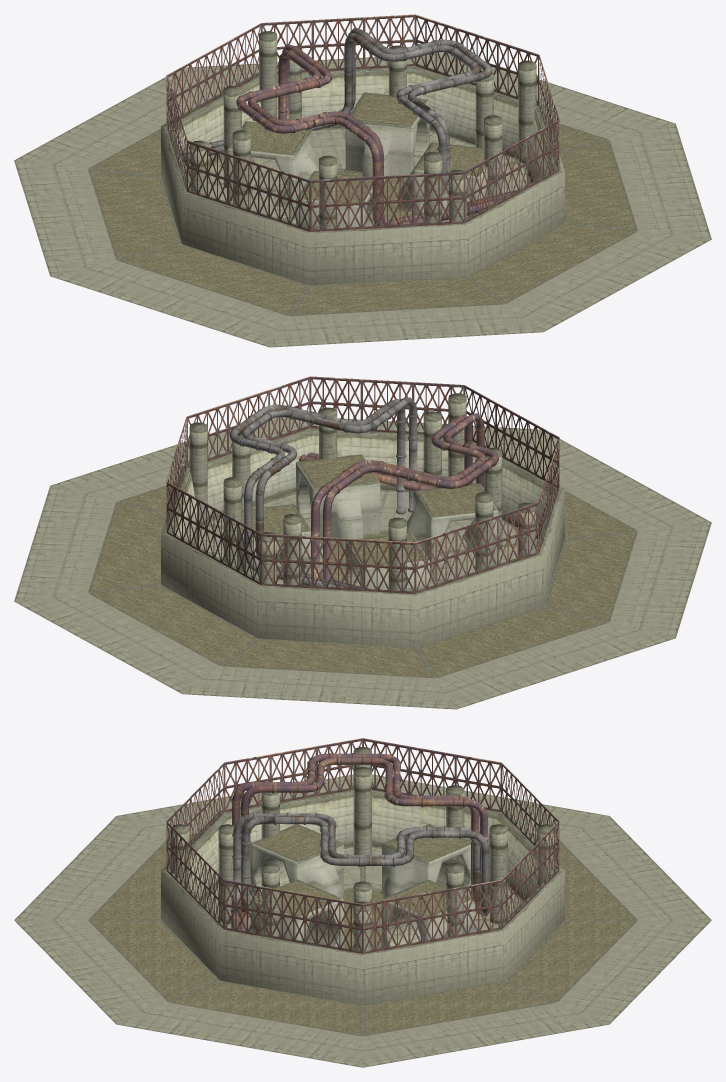
Rendered from BASKET_CROSSHAIR.fbx.
3 renders of one model, top to bottom at view 1: azimuth 30°, elevation 25°; view 2: azimuth 150°, elevation 25°; view 3: azimuth 270°, elevation 25°, orthographic. The views are drawn at different scales.
Parts seen in each view (by area): view 1: Basket_Crosshair CONCRETE, Basket_Crosshair METAL; view 2: Basket_Crosshair CONCRETE, Basket_Crosshair METAL; view 3: Basket_Crosshair CONCRETE, Basket_Crosshair METAL.
Part boxes in pixels (left/top/right/bottom): Basket_Crosshair CONCRETE: left=14, top=31, right=711, bottom=347; Basket_Crosshair METAL: left=166, top=14, right=559, bottom=231; Basket_Crosshair CONCRETE: left=14, top=393, right=711, bottom=709; Basket_Crosshair METAL: left=166, top=376, right=559, bottom=593; Basket_Crosshair CONCRETE: left=14, top=747, right=711, bottom=1067; Basket_Crosshair METAL: left=166, top=738, right=559, bottom=953.
Bounding box in the file's own units: 103 × 18.67 × 103.
